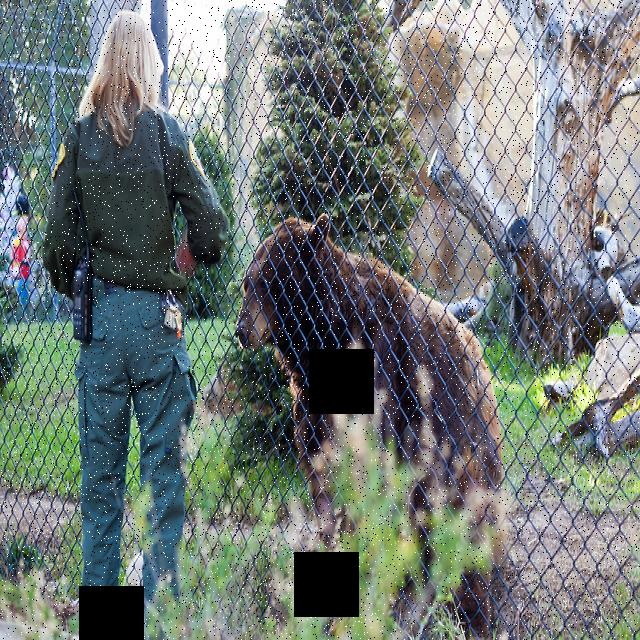Bear: (234, 211, 509, 628)
